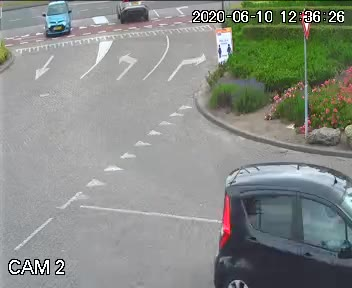car: (206, 147, 352, 288), (35, 0, 73, 42), (113, 0, 159, 27)
